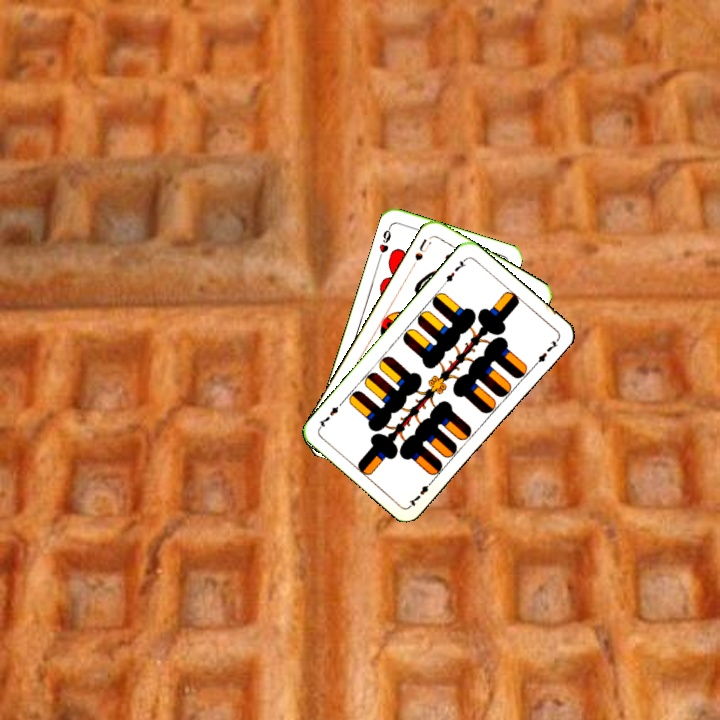E7: (405, 475, 436, 509), (439, 254, 469, 288)
H9: (375, 222, 394, 261)
SU: (408, 233, 434, 270)
